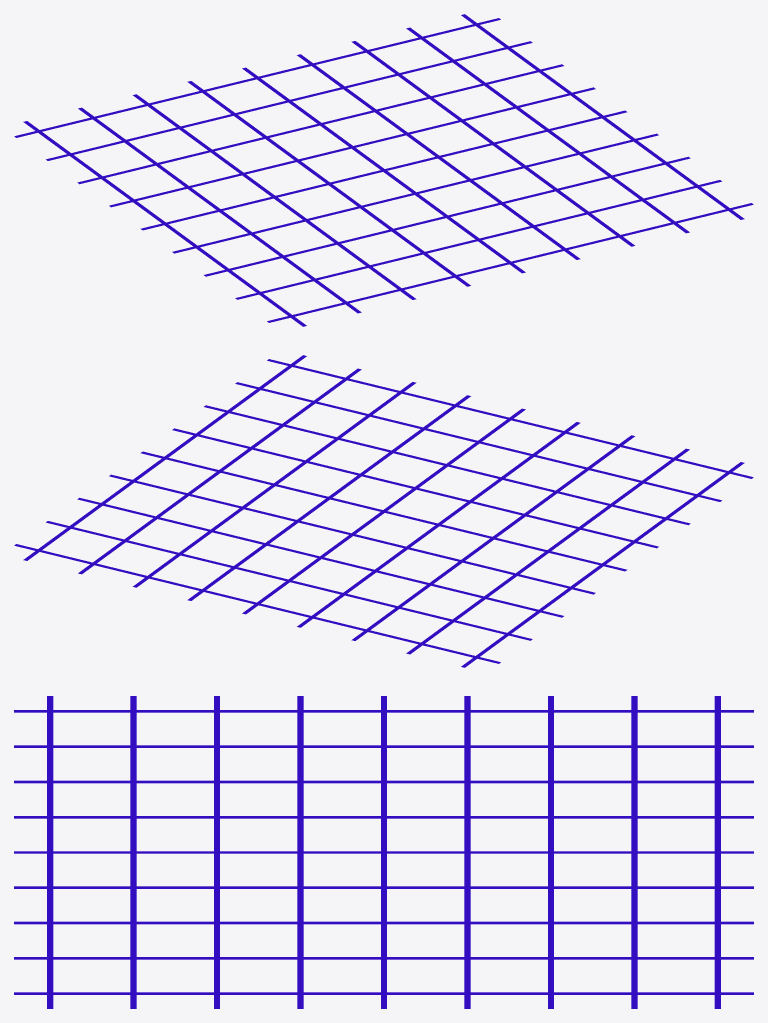
The picture shows the model from 3 angles, top to bottom: view 1: azimuth 30°, elevation 25°; view 2: azimuth 150°, elevation 25°; view 3: azimuth 270°, elevation 25°; orthographic projection. The views are drawn at different scales.
Visible parts, largest first — view 1: pPlane19; view 2: pPlane19; view 3: pPlane19.
Boxes of the visible parts, bbox=[...] form: pPlane19: bbox=[14, 14, 753, 326]; pPlane19: bbox=[14, 355, 753, 667]; pPlane19: bbox=[14, 696, 753, 1008].
Size of the model in its own units: 44.32 by 2.22e-16 by 44.32.
